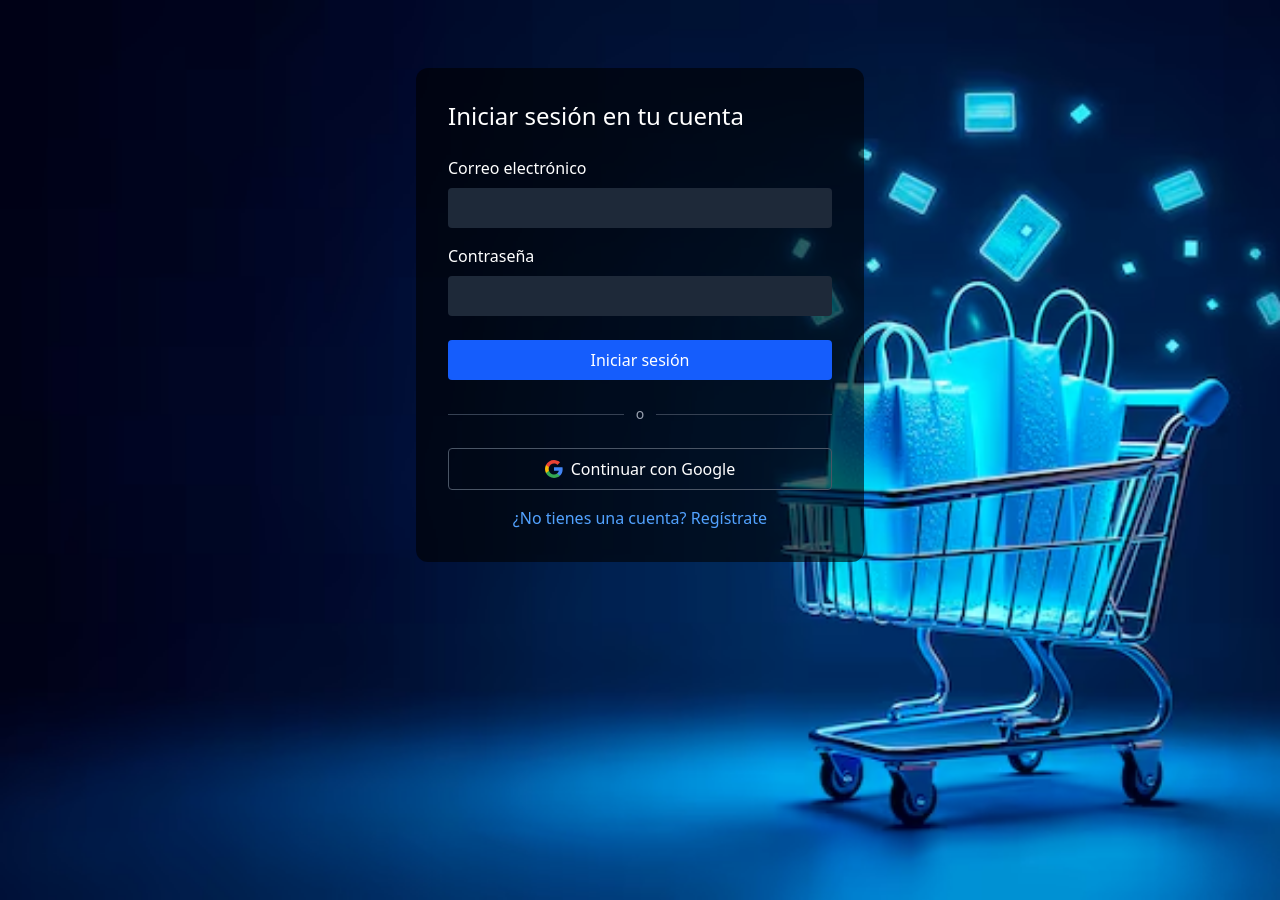
Test case: LoginPage › explains wrong credentials in Spanish
The image size is (1280, 900).
Step 1. Type "ana@example.com" into the field labelled "Correo electrónico" → (640, 208), box x1=448 y1=188 x2=832 y2=228
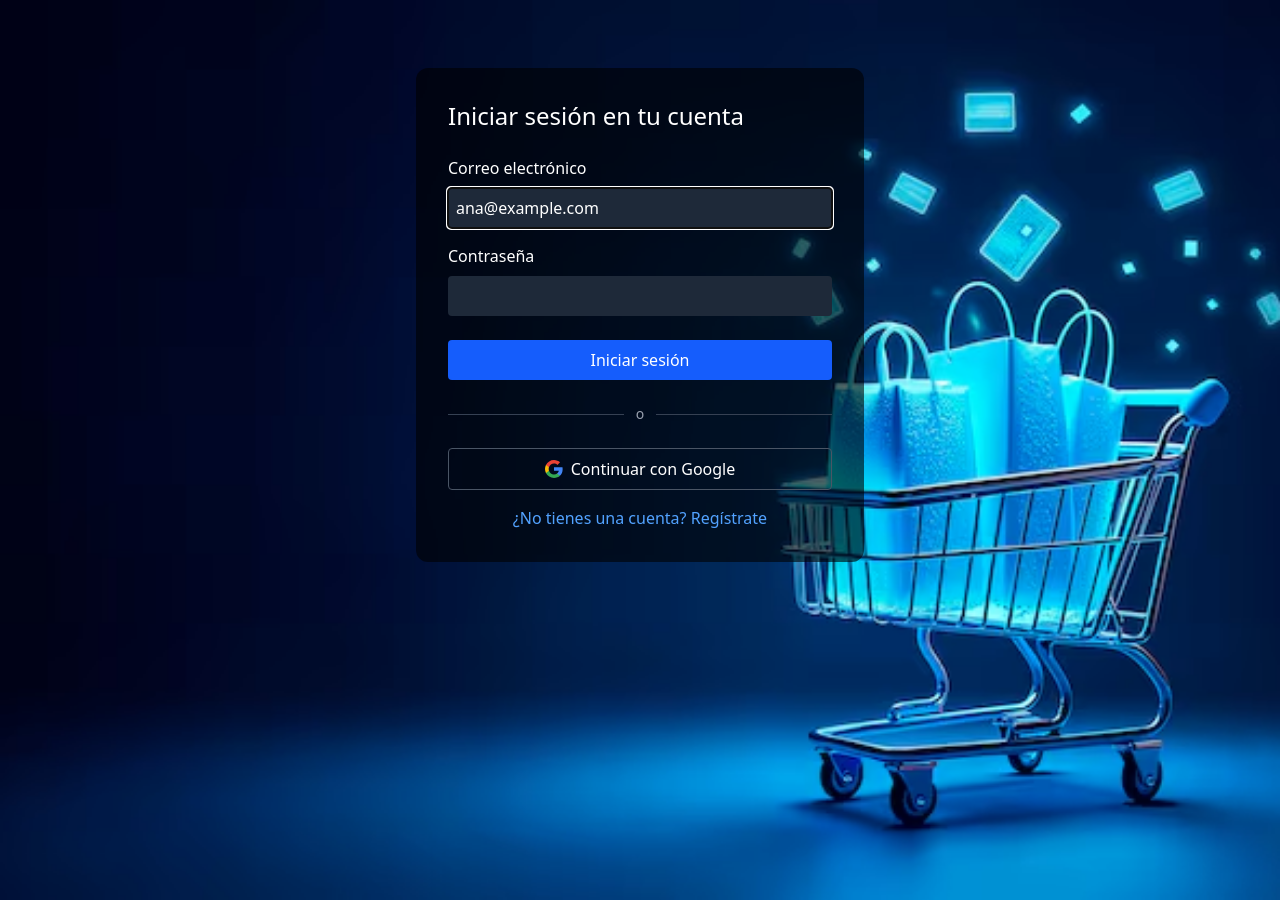
Step 2. Type "mala" into the password field labelled "Contraseña" → (640, 296), box x1=448 y1=276 x2=832 y2=316
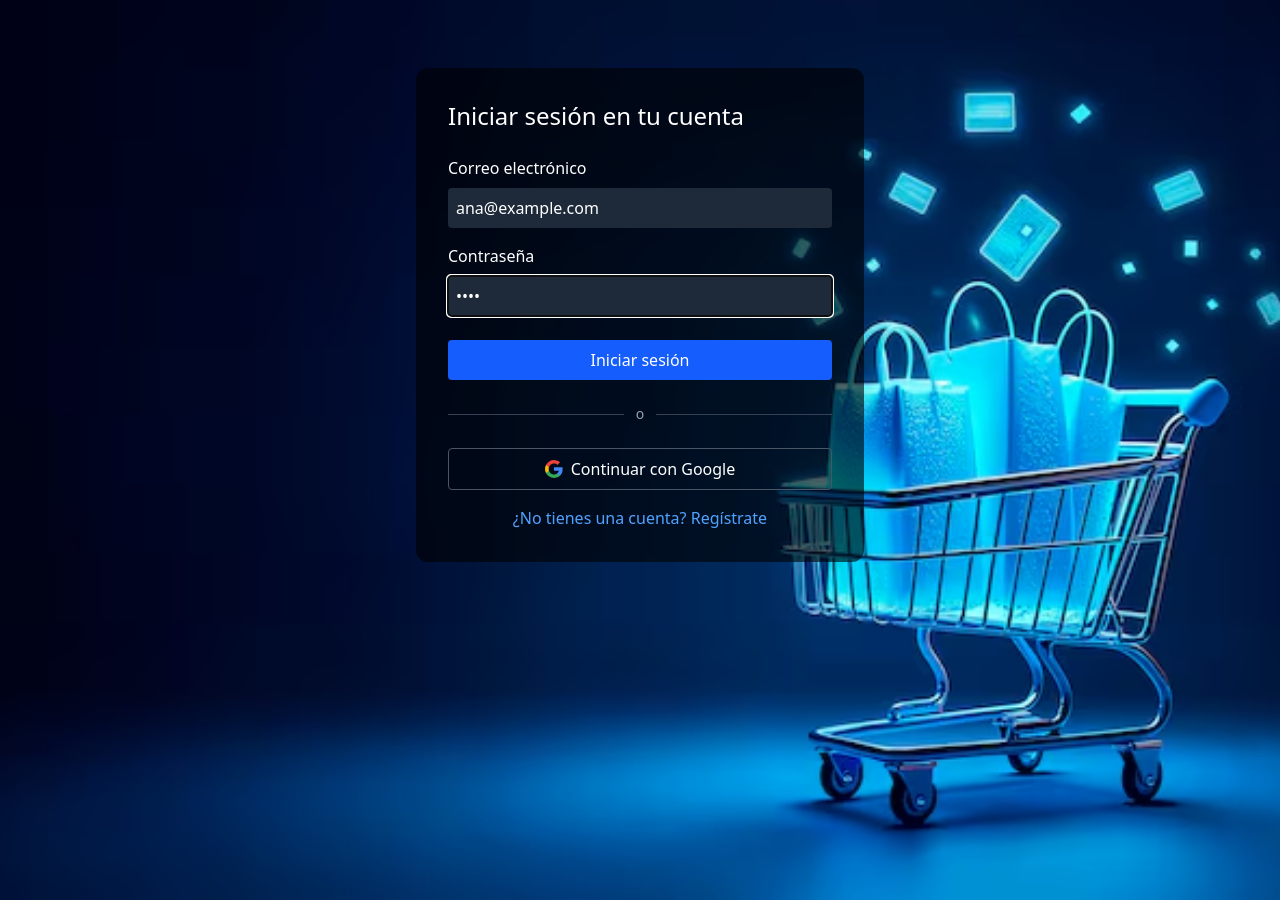
Step 3. Click the button "Iniciar sesión" → (640, 360), box x1=448 y1=340 x2=832 y2=380
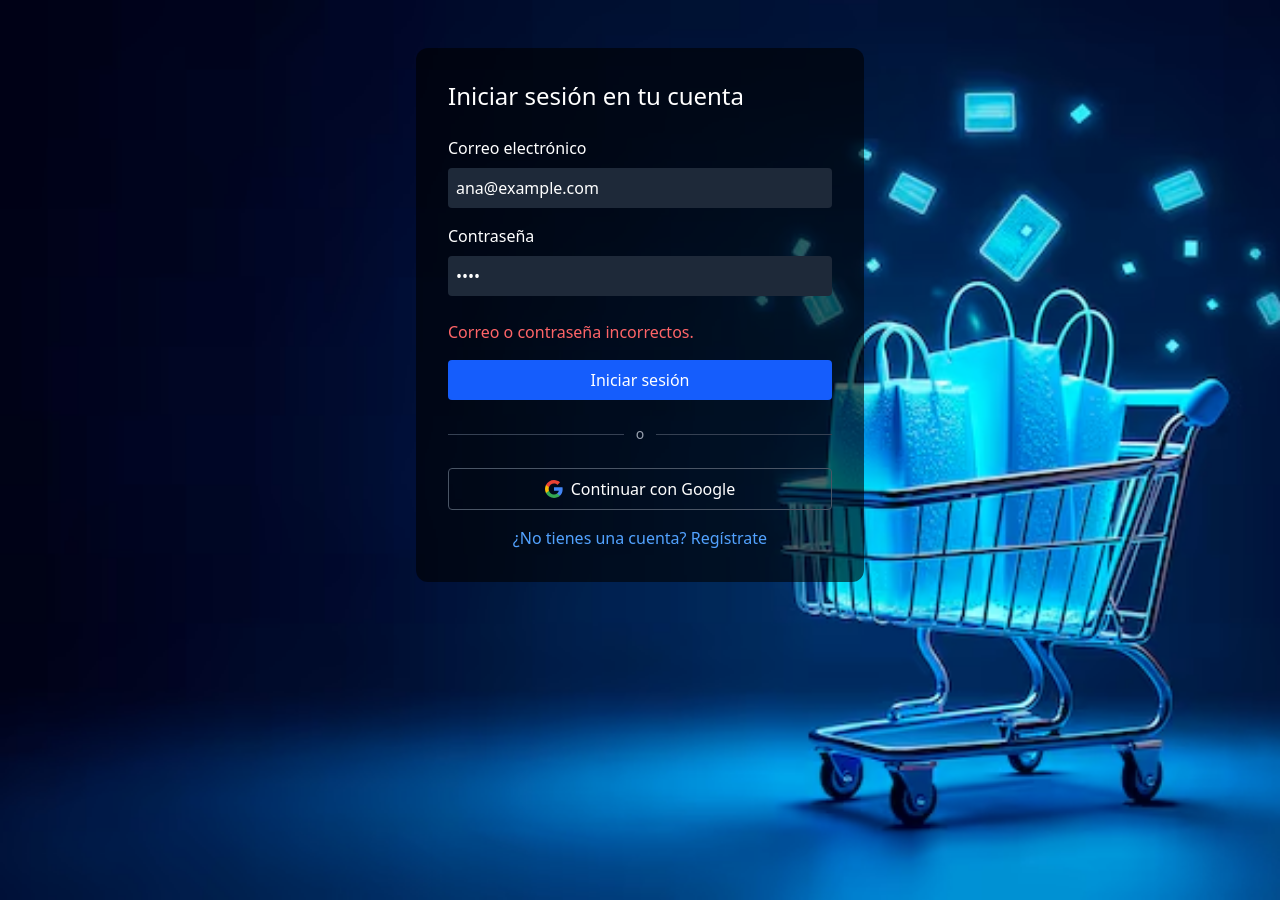
Result: the text "Correo o contraseña incorrectos." is shown at x1=448 y1=321 x2=694 y2=343
